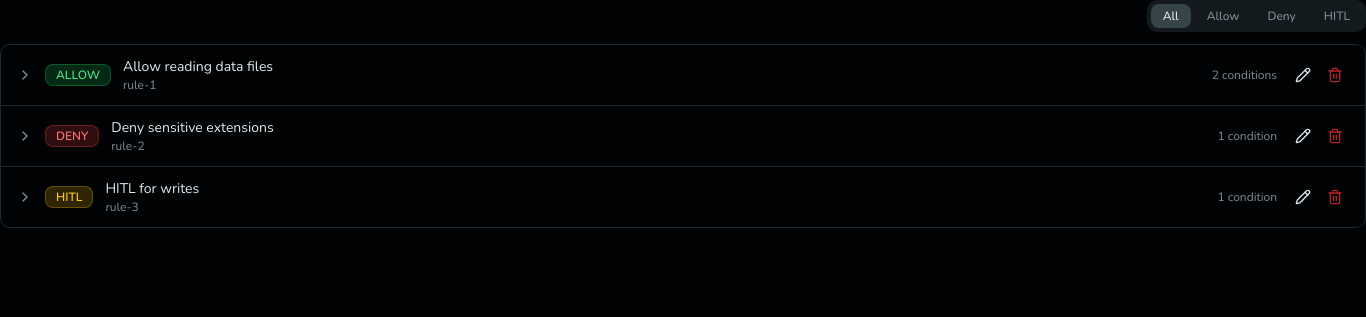
PolicyRulesList › expansion › collapses when same row clicked again
The width and height of the screenshot is (1366, 317).
Click the button "Allow reading data files". click: coordinates (78, 75)
box: [1,45,1365,105]
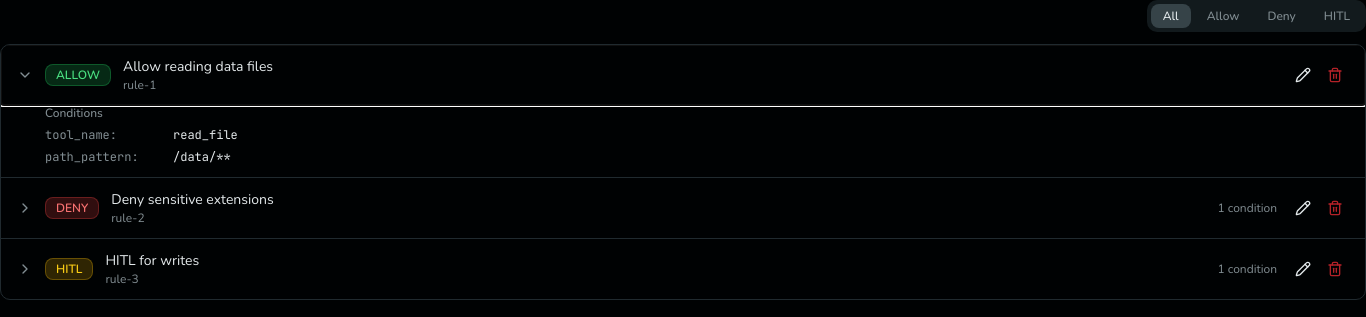
Expected: the text "tool_name:" is shown, [45,127,117,143]
Click the button "allow Allow reading data files rule-1". click: coordinates (78, 75)
box: [1,45,1365,105]
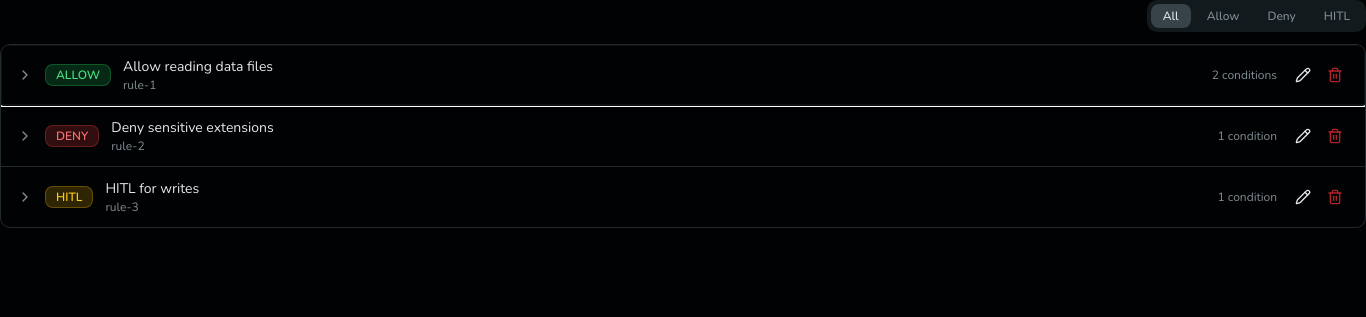
Expected: the text "tool_name:" is gone
